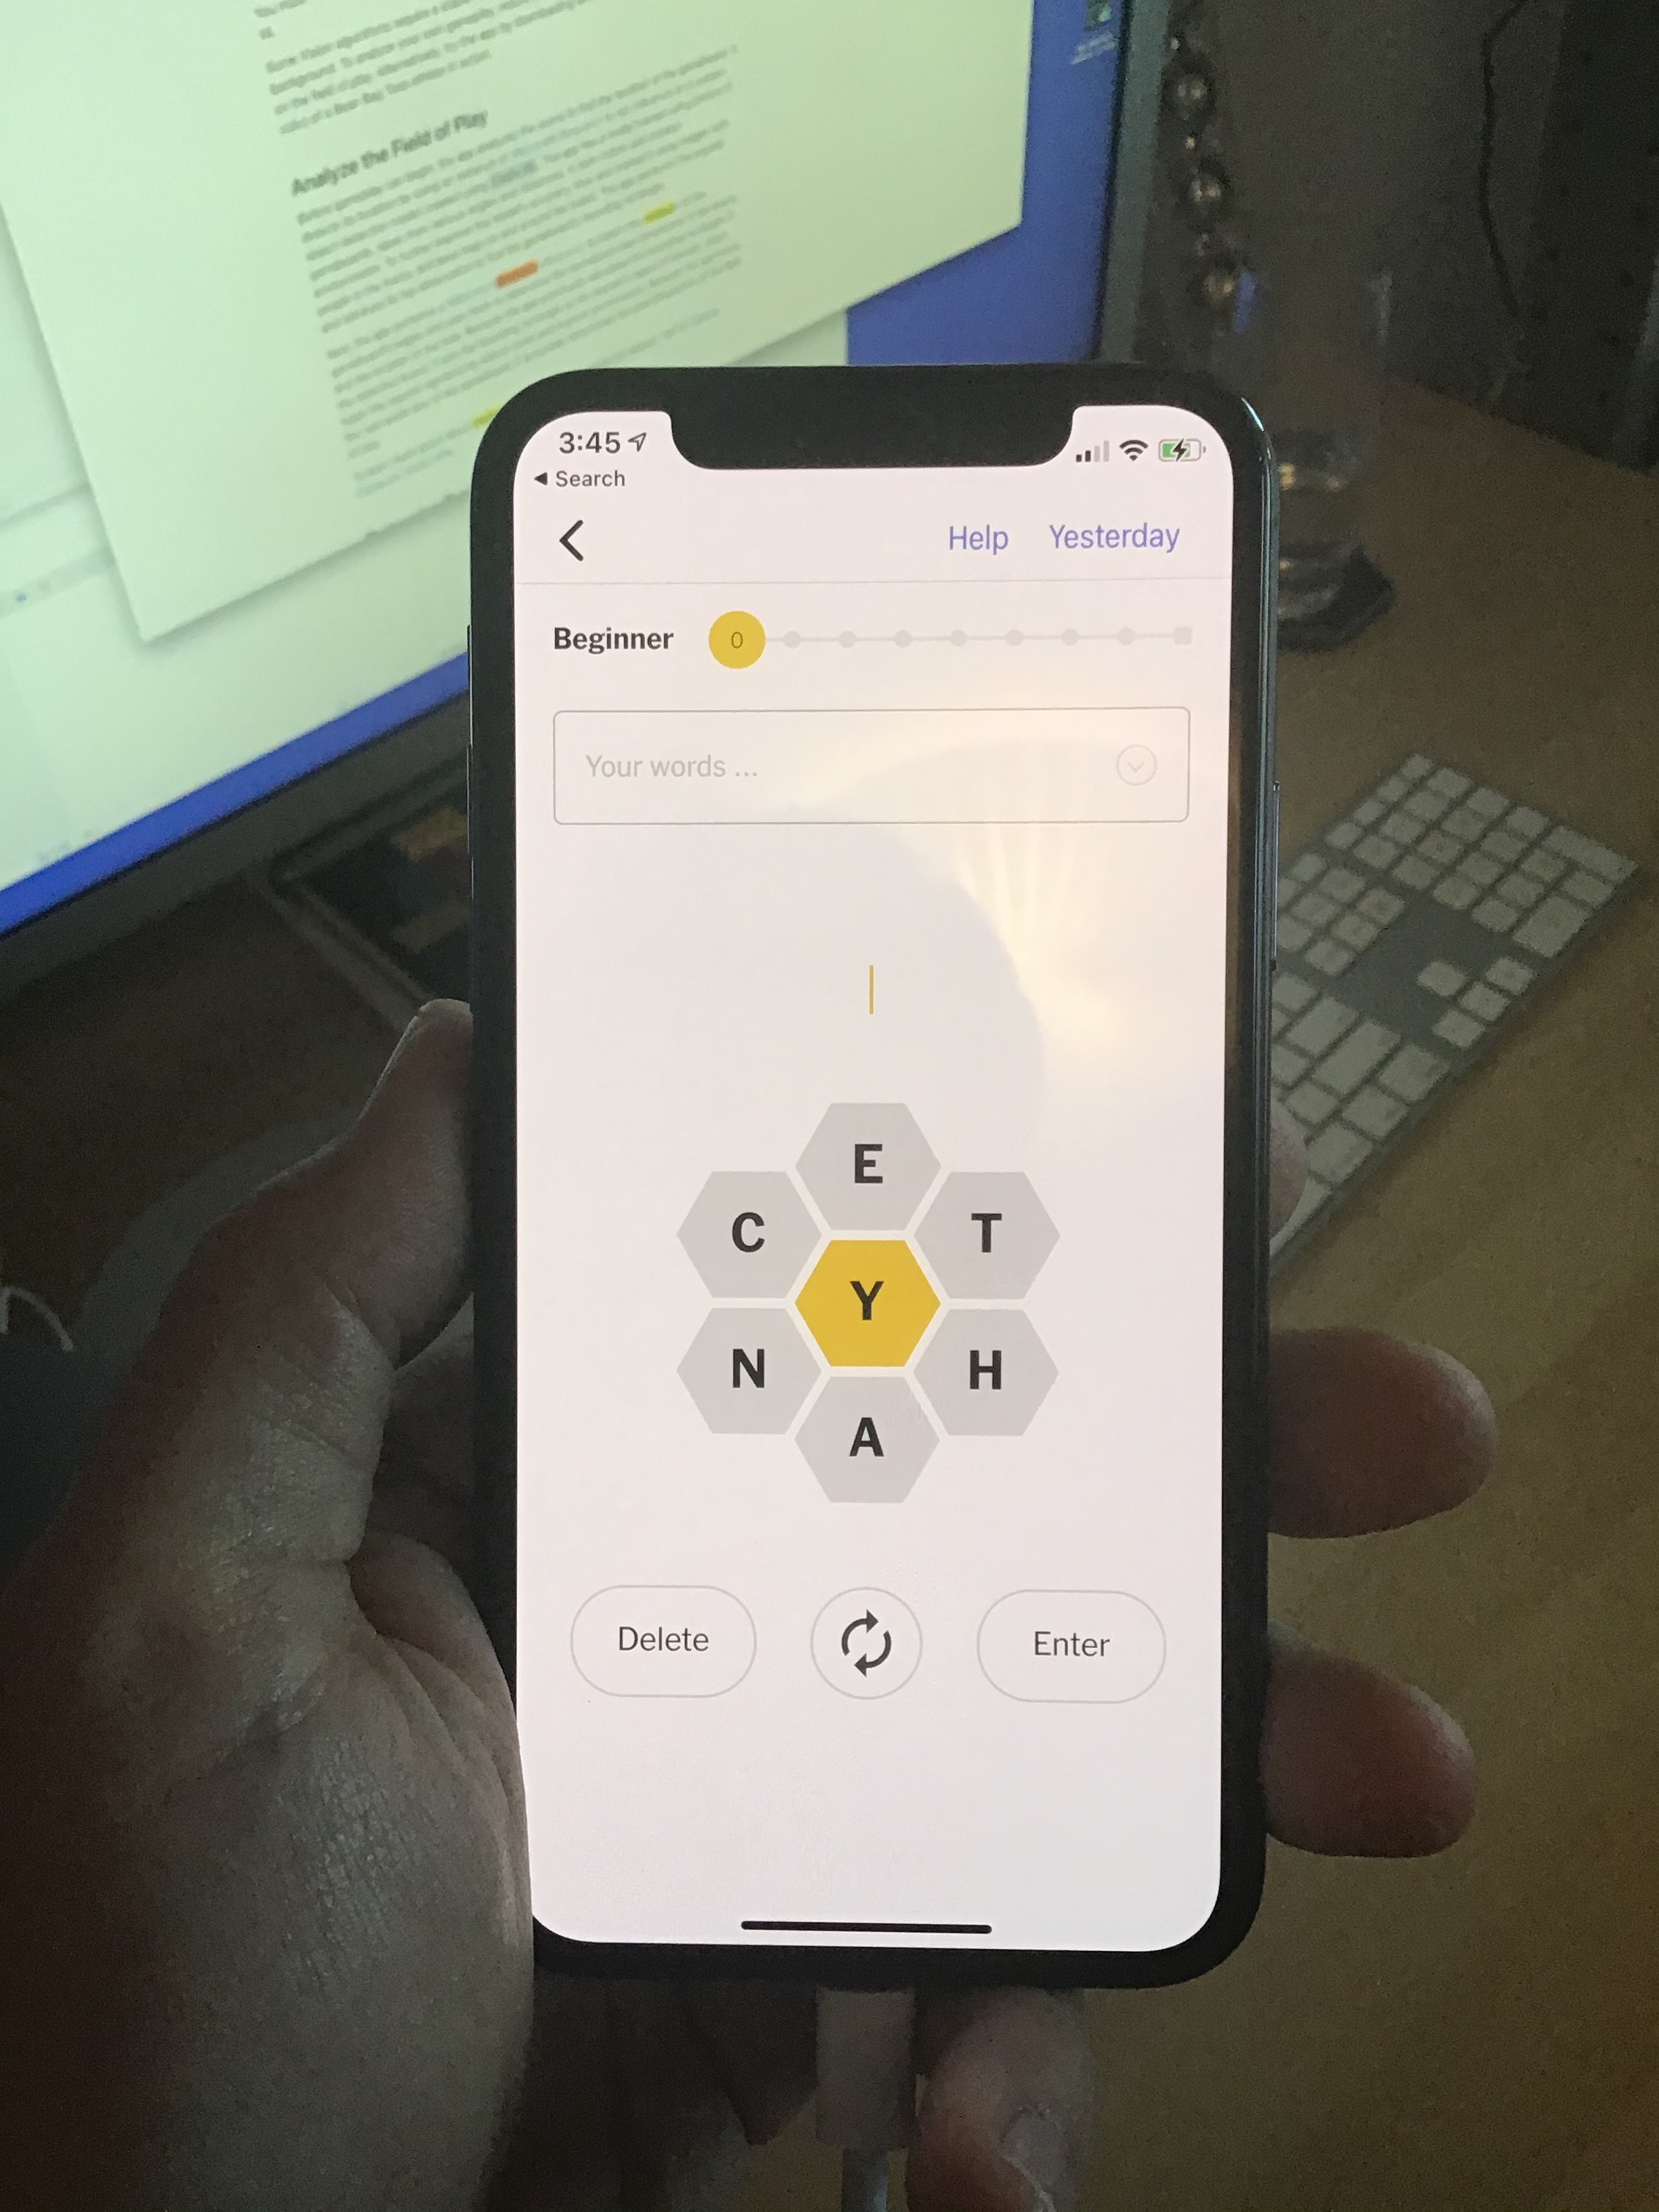Board: (634, 1061, 1105, 1529)
